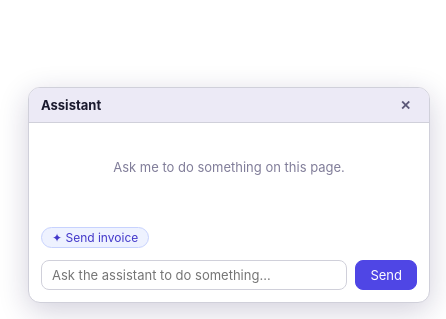
Test: AgentFaceAssistant widget › runs an instruction with an inline confirmation card
The image size is (446, 319).
Type "Send the invoice" into the field named "Assistant instruction". click: {"x": 194, "y": 275}
box: [41,260,347,290]
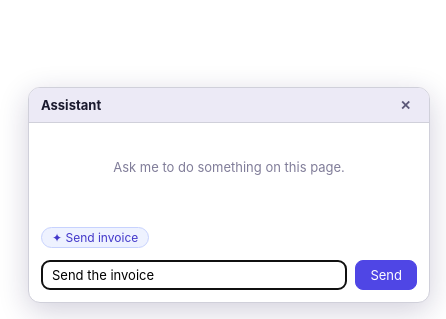
Click the button "Send". click: {"x": 386, "y": 275}
box: [355,260,417,290]
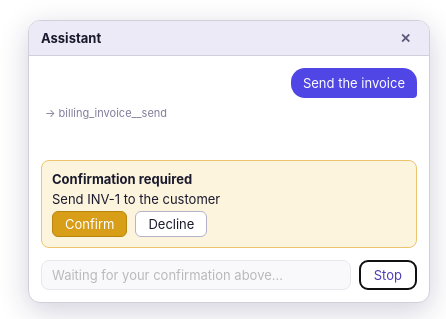
Expected: the element with test id "confirmation-card" shows "Send INV-1 to the customer", [52,191,220,207]
Click the button "Confirm". click: {"x": 90, "y": 224}
box: [52,211,127,237]
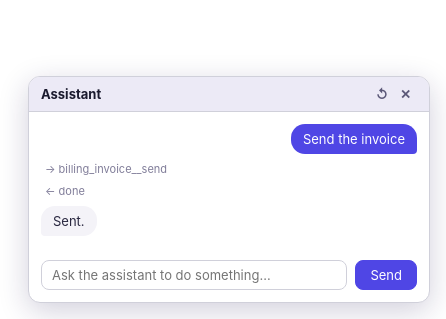
Expected: the text "Sent." is shown, [41,206,97,236]
